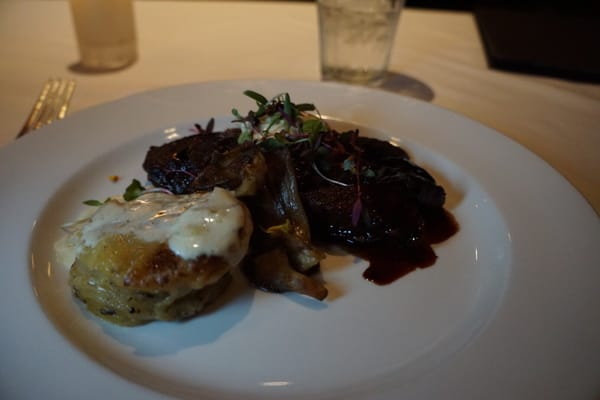burger: (0, 77, 76, 151)
pizza: (317, 0, 405, 83), (66, 0, 139, 72)
